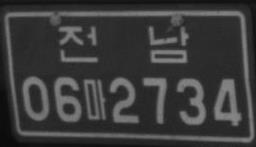0: (21, 74, 50, 122)
2: (109, 76, 139, 123)
3: (175, 76, 207, 125)
4: (213, 77, 242, 125)
6: (53, 75, 82, 122)
7: (142, 76, 168, 125)
마: (82, 77, 106, 120)
전남_D: (57, 25, 189, 62)
